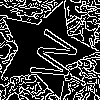W: (20, 24, 81, 85)
